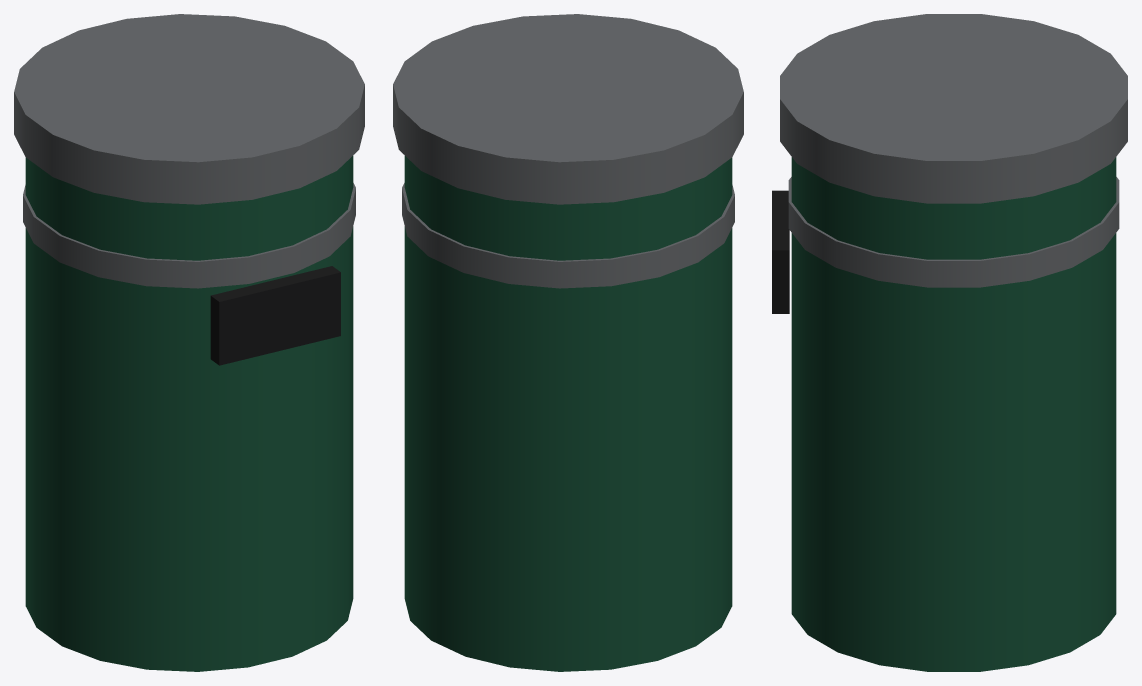
Rendered from cop_kutusu.glb.
3 views of the same model, side by side, from view 1: azimuth 30°, elevation 25°; view 2: azimuth 150°, elevation 25°; view 3: azimuth 270°, elevation 25° (orthographic).
Visible parts, largest first — view 1: Cop_Kutusu; view 2: Cop_Kutusu; view 3: Cop_Kutusu.
Boxes of the visible parts, x1=… form: Cop_Kutusu: x1=14, y1=14, x2=364, y2=671; Cop_Kutusu: x1=393, y1=14, x2=743, y2=671; Cop_Kutusu: x1=772, y1=14, x2=1127, y2=671.
Size of the model in its own units: 0.5926 by 0.97 by 0.6063.
